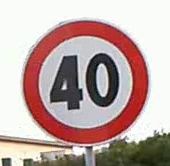limite 40: (21, 15, 149, 150)
